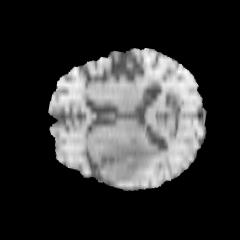glioma: (100, 136, 163, 181)
